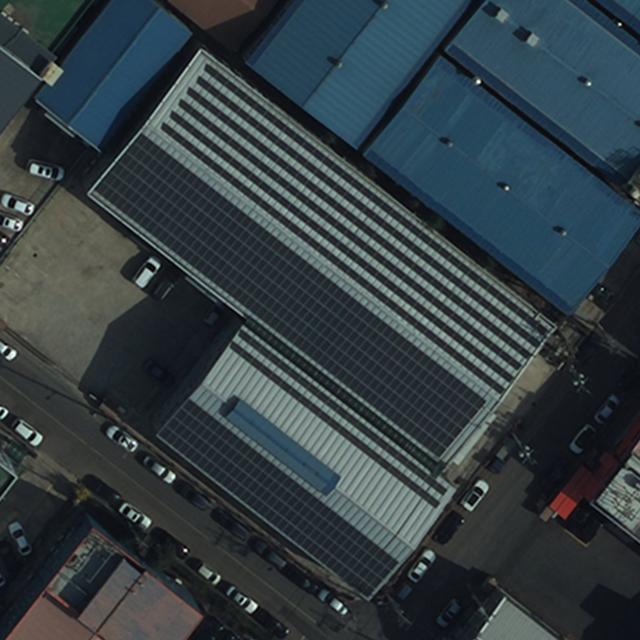panel: (86, 127, 488, 459), (171, 96, 525, 376), (193, 74, 545, 352), (165, 110, 516, 387), (203, 63, 554, 340), (158, 121, 508, 398), (183, 87, 531, 362), (150, 393, 402, 601), (228, 338, 444, 512), (234, 327, 452, 498)
